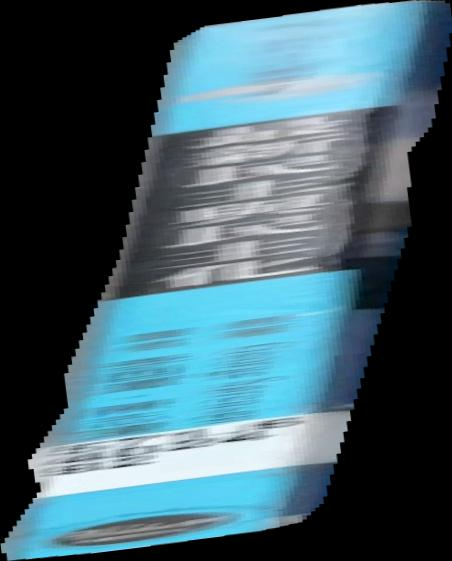book: (1, 1, 452, 561)
